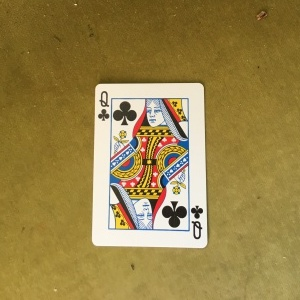card: (92, 78, 208, 249)
